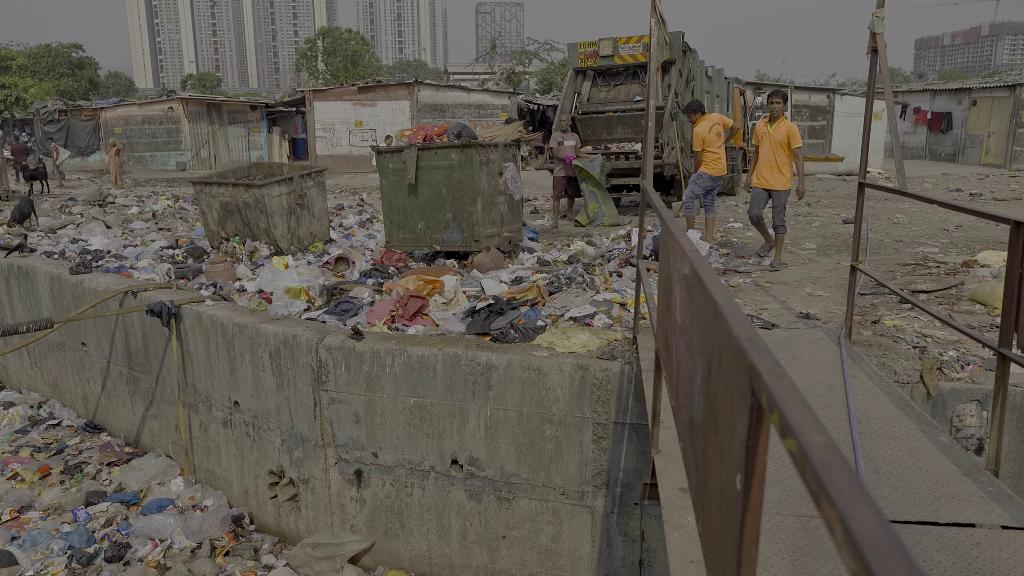dustbin: (371, 138, 522, 270), (190, 165, 329, 257)
garbage: (167, 501, 235, 551), (114, 446, 175, 497), (252, 260, 329, 294), (19, 535, 73, 576), (490, 314, 551, 347), (128, 509, 186, 541), (268, 288, 313, 319), (53, 523, 98, 551), (46, 397, 80, 423), (100, 538, 131, 565), (83, 486, 112, 509), (15, 509, 53, 525), (72, 504, 91, 524), (80, 419, 106, 432), (240, 559, 266, 570)
